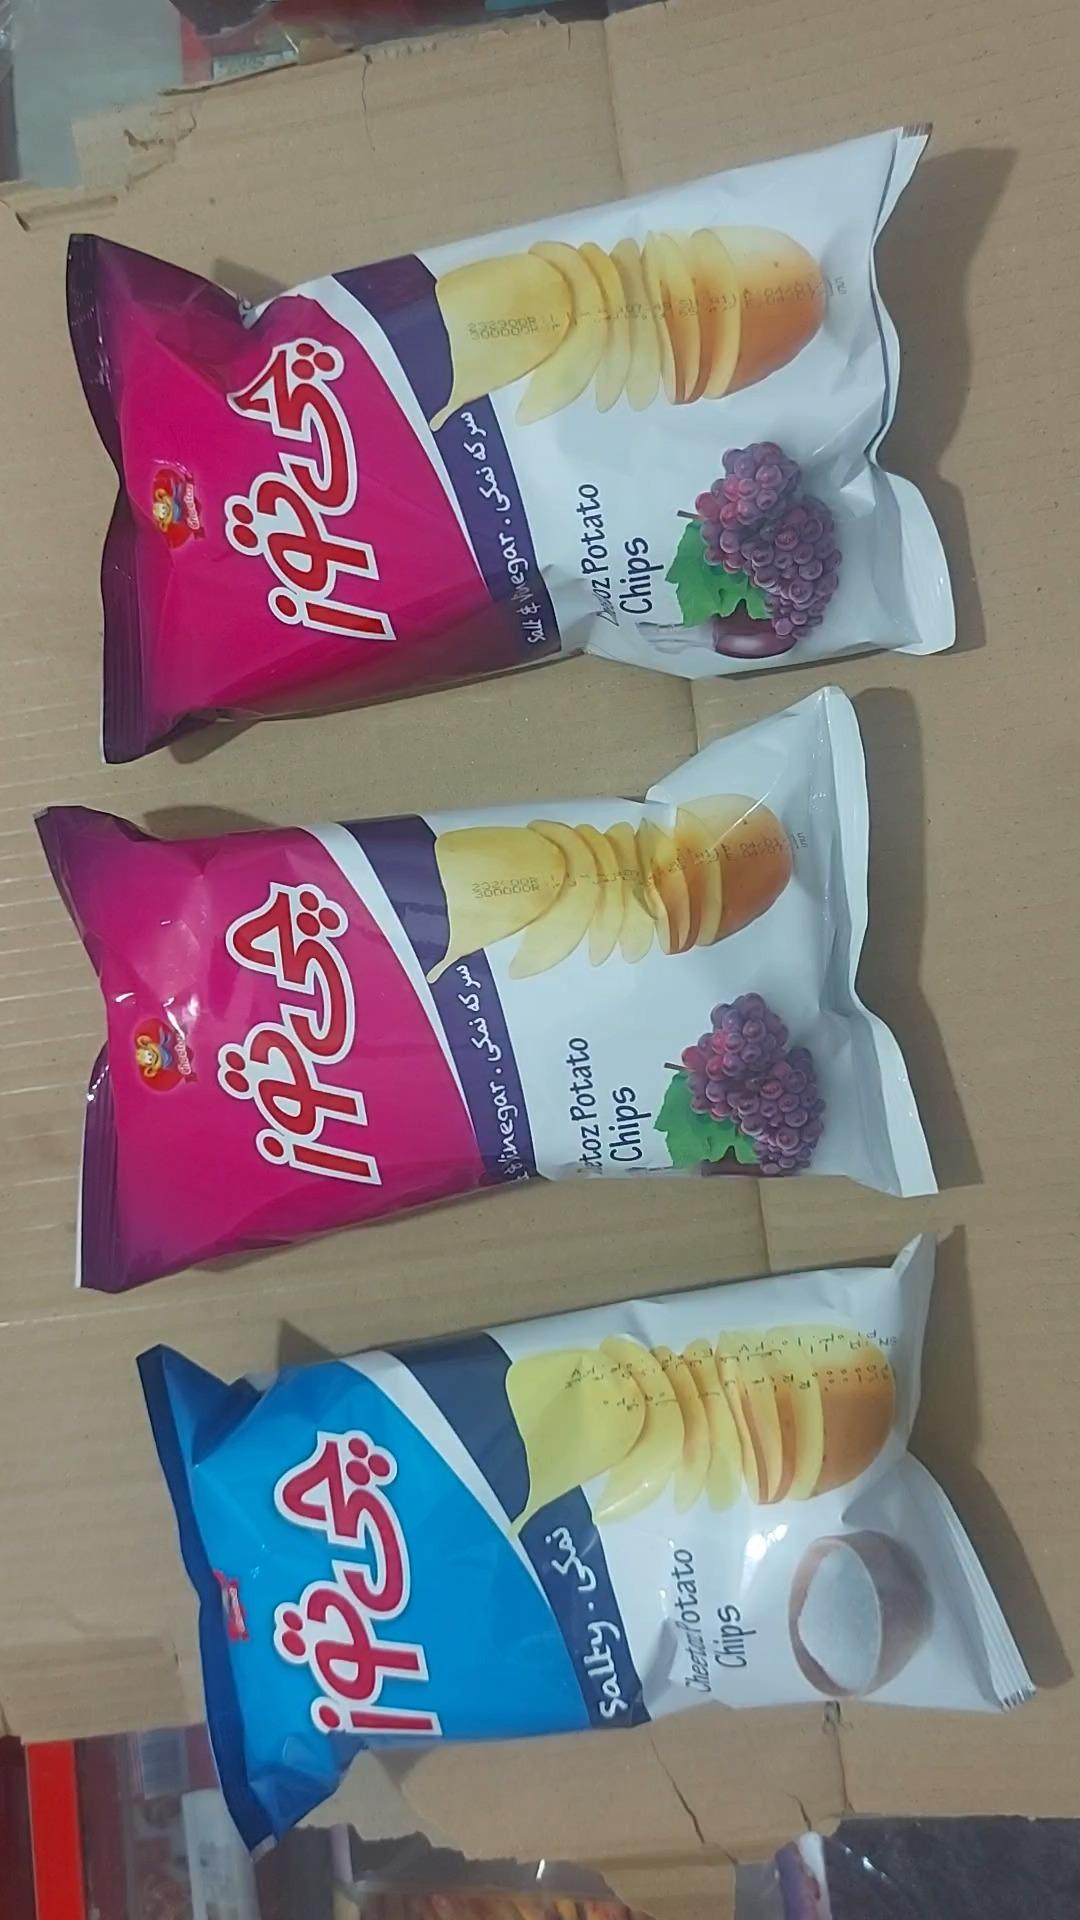Cheetoz salty chips: (138, 1240, 1033, 1849)
Cheetoz vinegar chips: (66, 131, 951, 764), (38, 694, 934, 1292)
